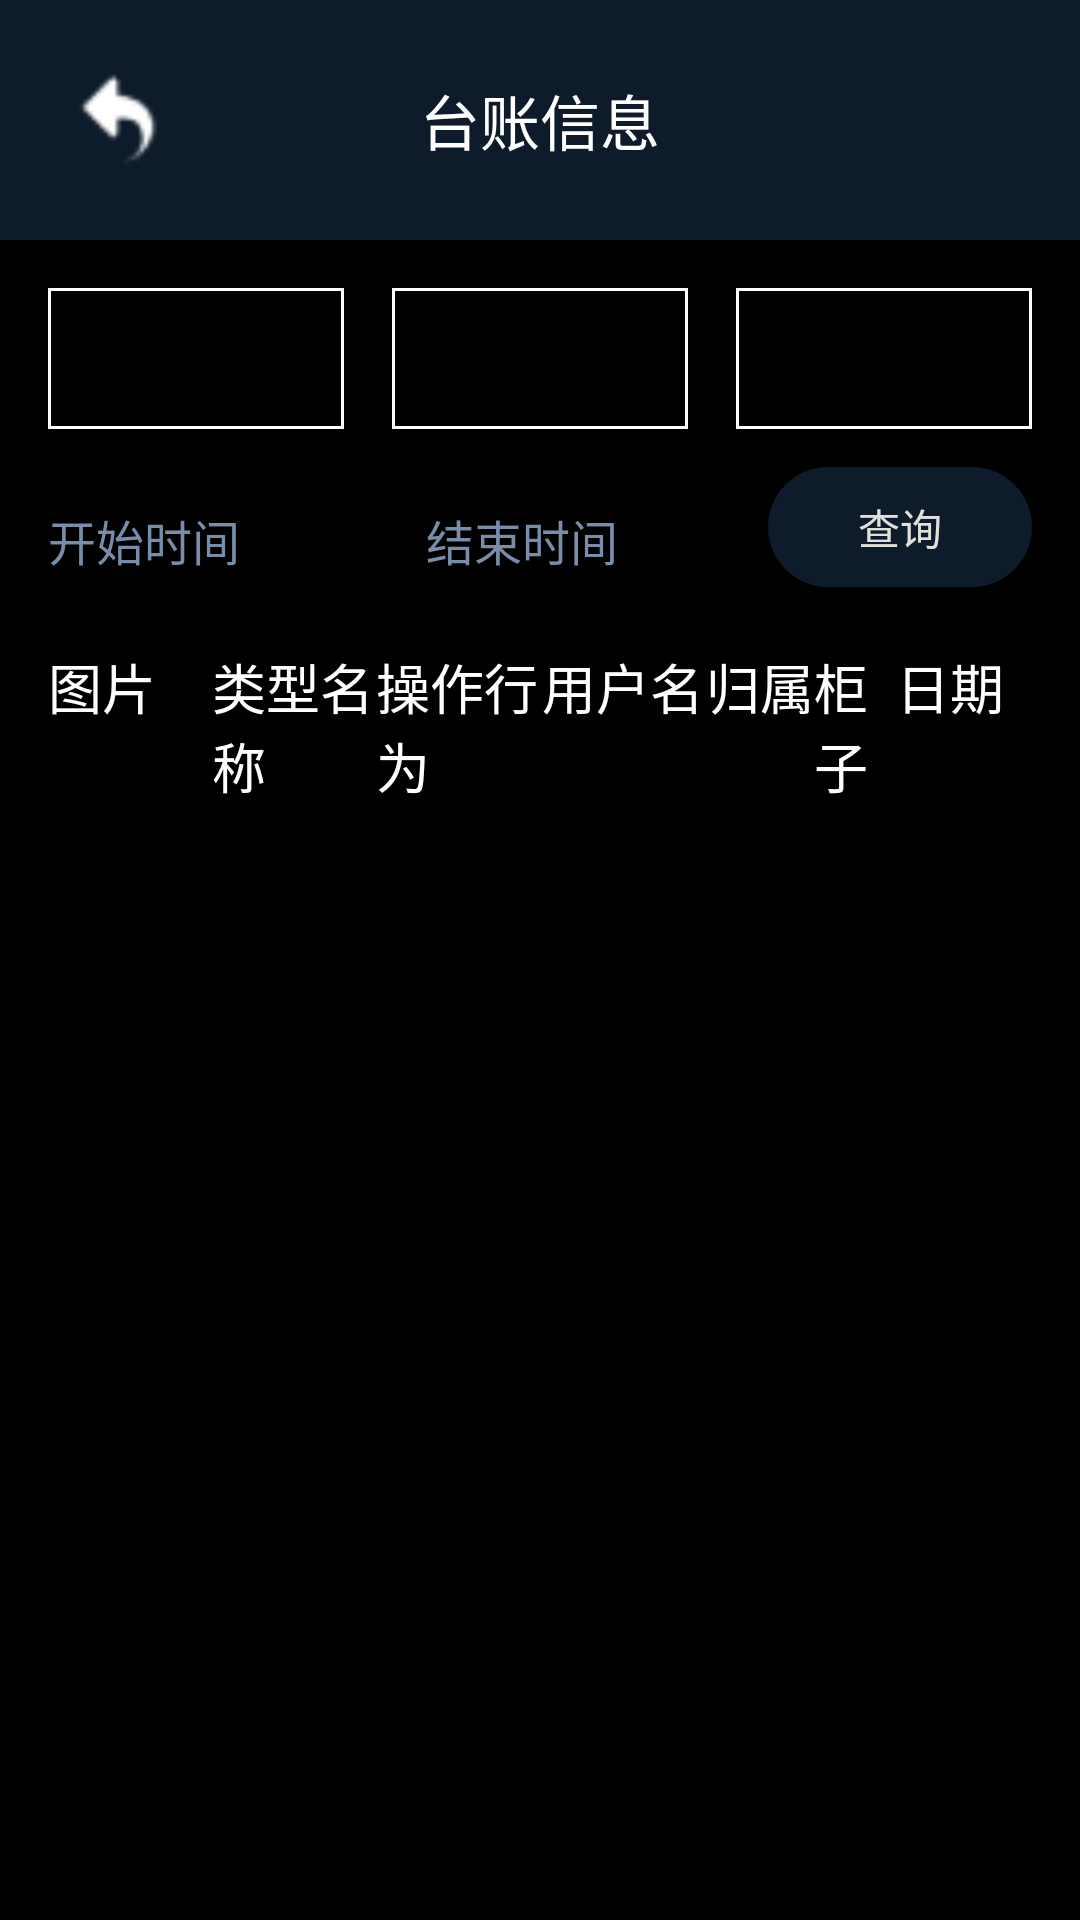

Named icons in this screenshot (1080w x 1920h) and their bounding boxes, (x1, y1, x2, y2):
返回: (82, 75, 156, 160)
